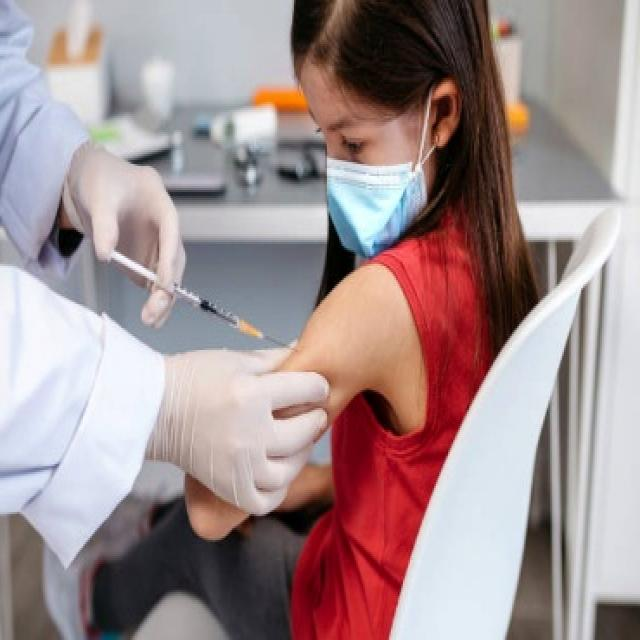child: (67, 0, 514, 638)
